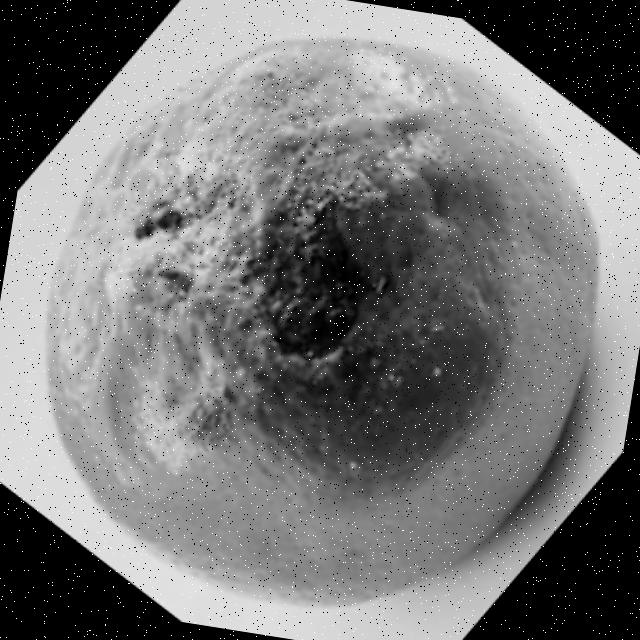Rotten: (4, 0, 632, 640)
